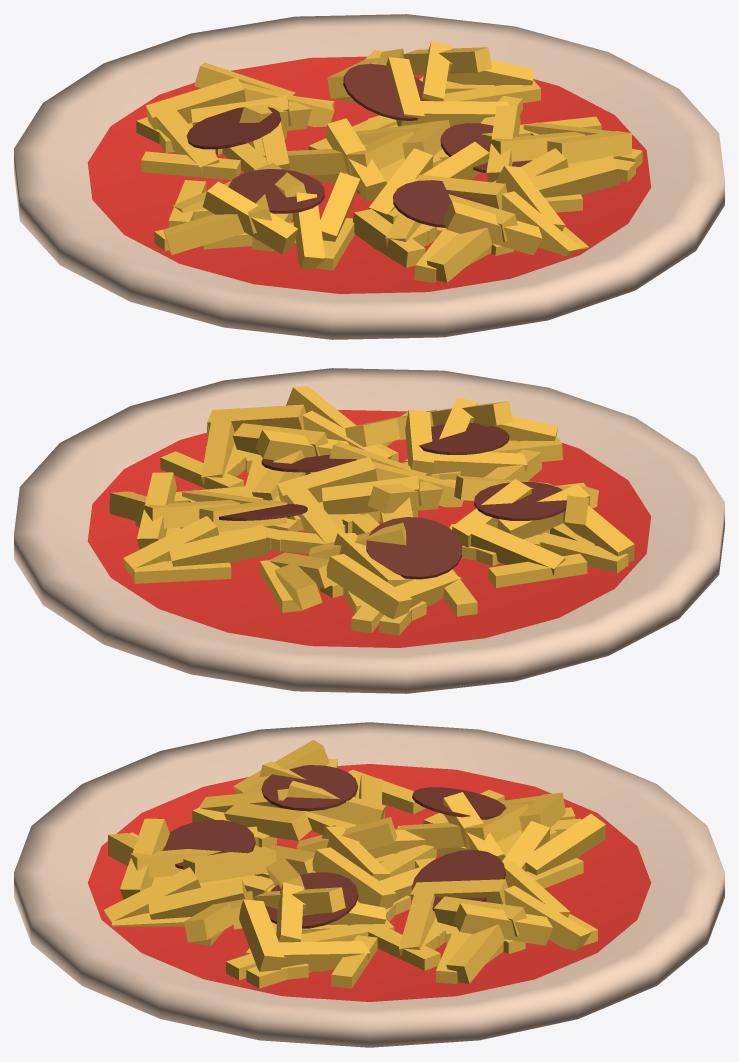
File: RawPizza(With Tomato Cheese And Pepperoni).glb
3 renders of one model, top to bottom at view 1: azimuth 30°, elevation 25°; view 2: azimuth 150°, elevation 25°; view 3: azimuth 270°, elevation 25°, orthographic.
Visible parts, largest first — view 1: Cylinder.040; view 2: Cylinder.040; view 3: Cylinder.040.
Boxes of the visible parts, x1,y1,x2,y2 form: Cylinder.040: (14,14,724,339); Cylinder.040: (14,368,724,693); Cylinder.040: (14,722,724,1047).
Bounding box in the file's own units: 0.8833 × 0.0988 × 0.8833.
